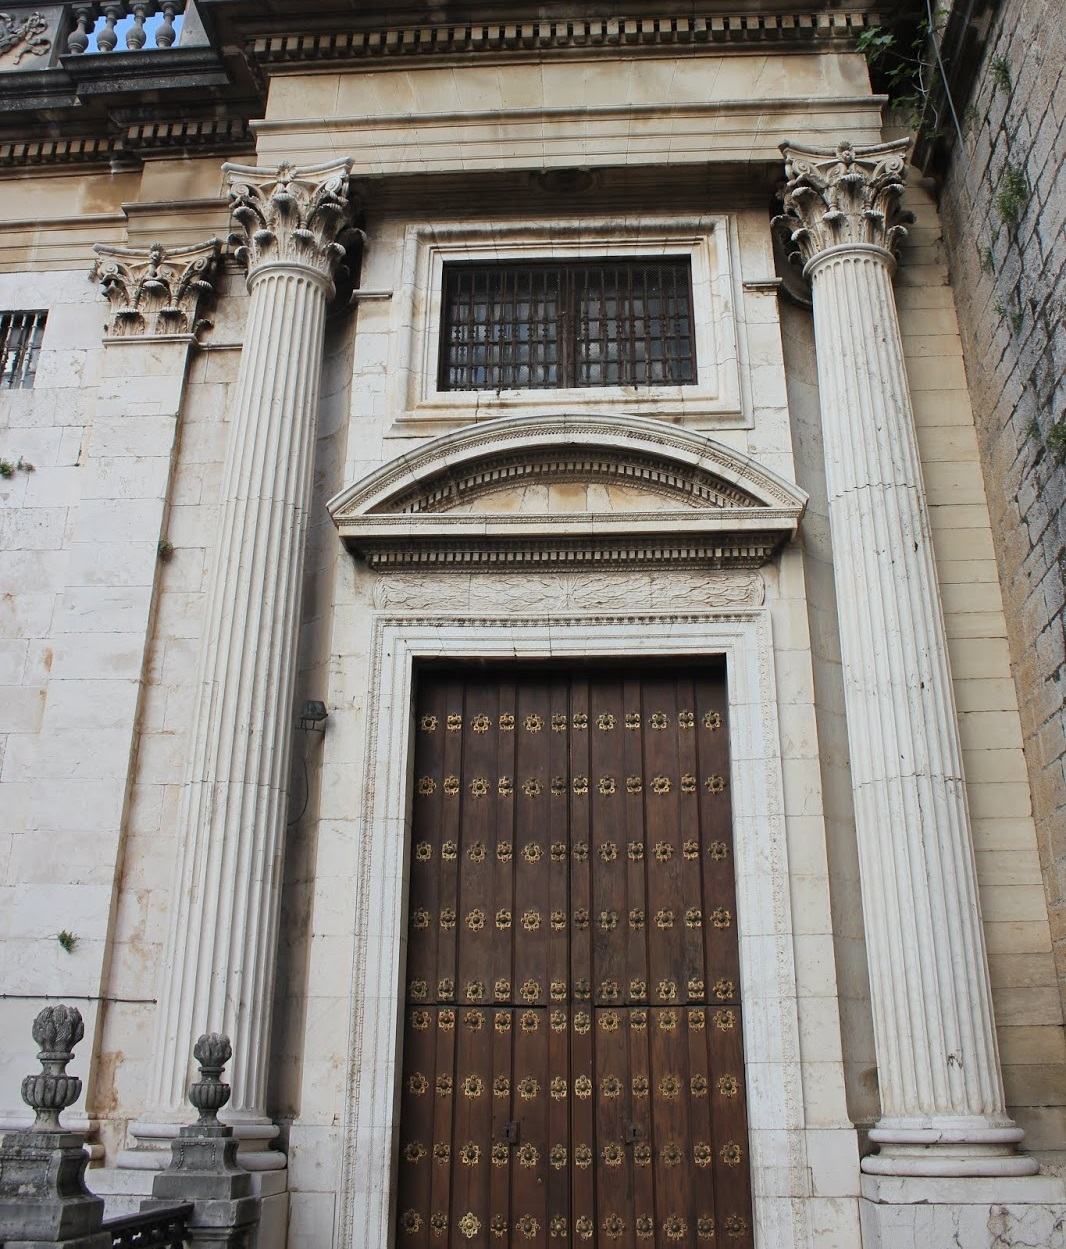fronton-curvo: (316, 402, 826, 575)
vano-adintelado: (346, 594, 798, 1249)
